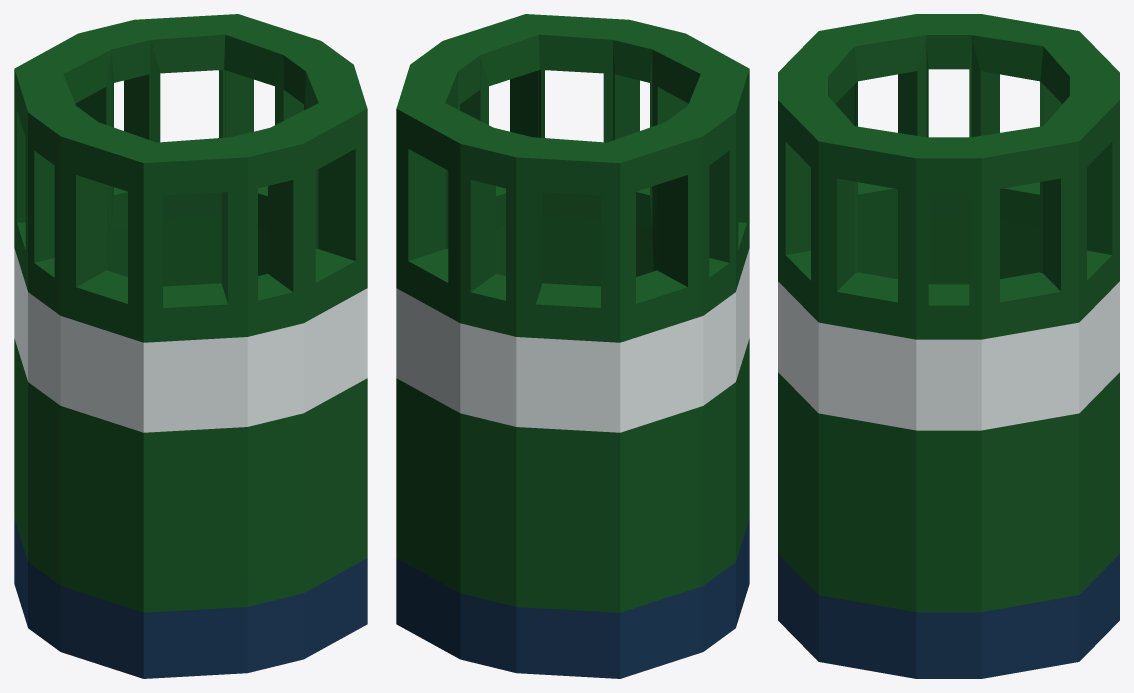
The model's file is garbagebin.glb.
3 views of the same model, side by side, from view 1: azimuth 30°, elevation 25°; view 2: azimuth 150°, elevation 25°; view 3: azimuth 270°, elevation 25° (orthographic).
Parts seen in each view (by area): view 1: garbagebin; view 2: garbagebin; view 3: garbagebin.
Boxes of the visible parts, x1,y1,x2,y2 form: garbagebin: (14, 14, 367, 678); garbagebin: (396, 14, 749, 678); garbagebin: (778, 14, 1119, 678).
Bounding box in the file's own units: 0.8729 × 1.47 × 0.8729.
1 material, 1 textured.
